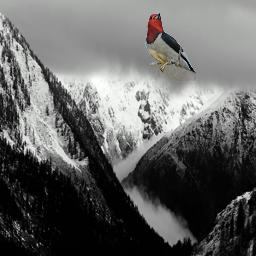Woodpecker: (143, 9, 200, 81)
